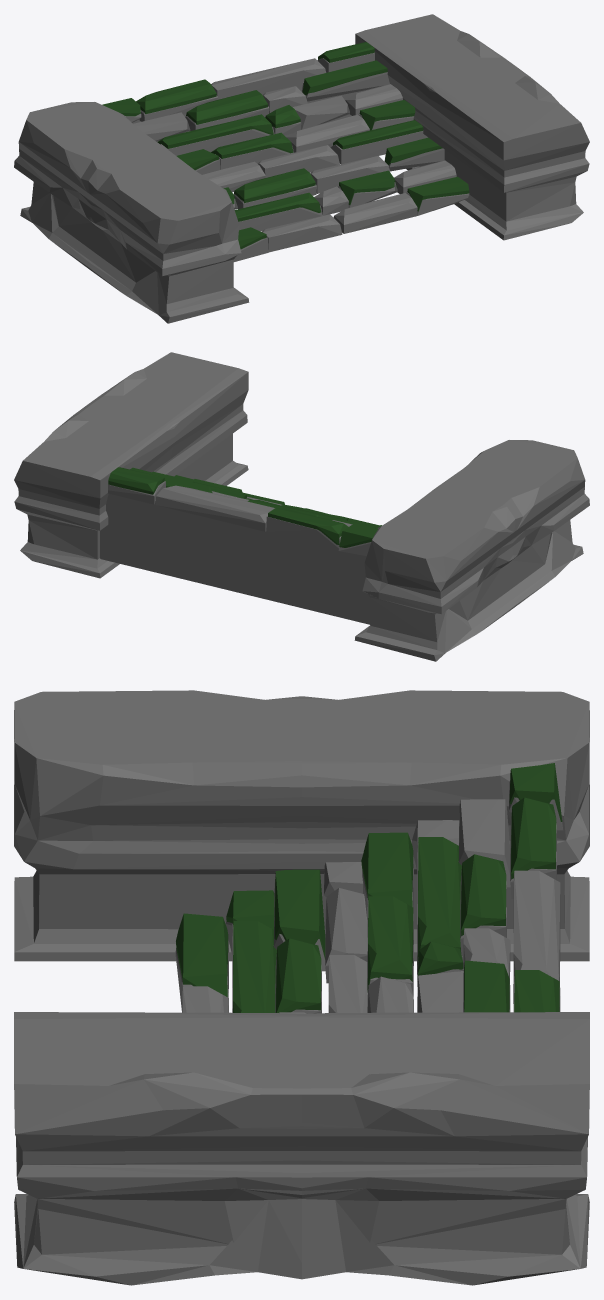
The model's file is SM_staircase_jungle.fbx.
The picture shows the model from 3 angles, top to bottom: view 1: azimuth 30°, elevation 25°; view 2: azimuth 150°, elevation 25°; view 3: azimuth 270°, elevation 25°; orthographic projection. The views are drawn at different scales.
Visible parts, largest first — view 1: Object101; view 2: Object101; view 3: Object101.
Part boxes in pixels (left/top/right/bottom): Object101: left=14, top=14, right=589, bottom=323; Object101: left=14, top=352, right=589, bottom=661; Object101: left=14, top=690, right=589, bottom=1285.
Size of the model in its own units: 317 by 75.13 by 189.
